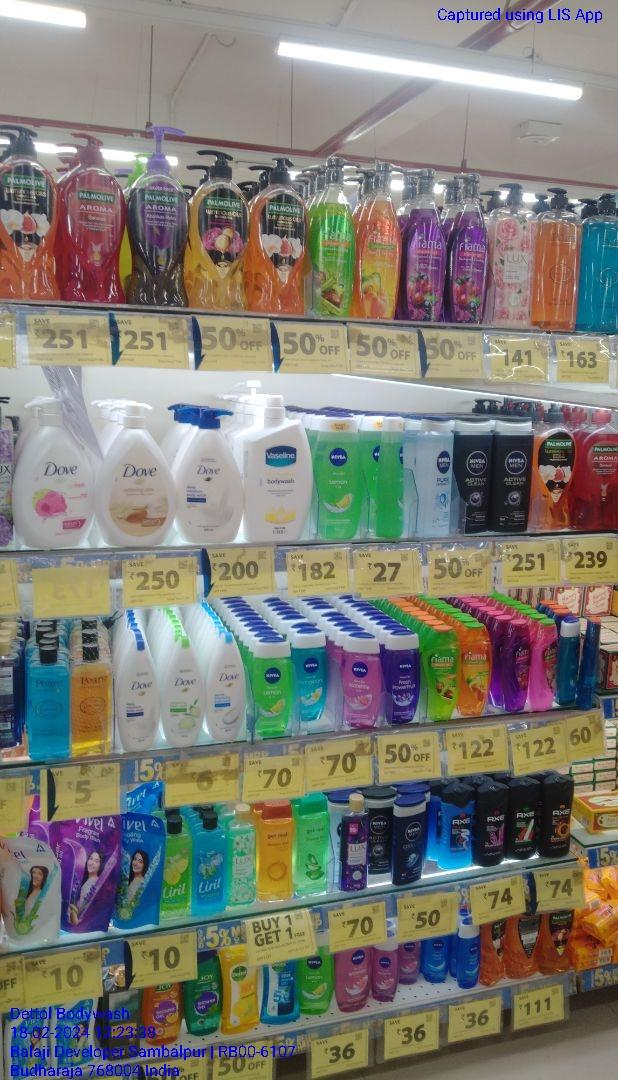Dettol_Bodywash_Cool: (262, 963, 301, 1025)
Dettol_Bodywash_Refresh: (222, 946, 260, 1036)
Dove_Deep_Moisture_Body_Wash_250ML: (114, 636, 160, 755)
Dove_Gentle_Exfoliating_Body_Wash_250ML: (208, 632, 246, 743)
Dove_Refreshing_Body_Wash_250ML: (160, 635, 206, 748)
Fiama_Shower_Gel_Lemongrass_and_Jojoba_250ML: (424, 625, 458, 720)
Fiama_Shower_Gel_Patchouli_and_Macadamia_250ML: (526, 619, 555, 710)
Fiama_Shower_Gel_Peach_and_Avocado_250ML: (460, 623, 489, 716)
Get_Real_Shower_Gel_Moisturising_Glycerin_300ML: (255, 801, 294, 904)
Joy_Shower_Gel_Mandarin_and_Lemongrass_250ML: (142, 983, 183, 1048)
Joy_Shower_Gel_Mint_and_Eucalyptus_250ML: (184, 950, 221, 1033)
Liril_Cooling_Mint_Body_Wash_250ML: (192, 813, 226, 919)
Liril_Lime_and_Tea_Tree_Oil_Body_Wash_250ML: (165, 813, 191, 912)
Lux_Black_Orchid_Scent_and_Juniper_Oil_Body_Wash_245ML: (340, 791, 367, 892)
Lux_Body_Wash_Skin_Detox_Freesia_Scent_and_Alove_Vera_245ML: (226, 801, 255, 905)
Nivea_Shower_Gel_Frangipani_and_Oil_250ML: (294, 628, 325, 725)
Nivea_Shower_Gel_Fresh_Powerfruit_250ML: (383, 630, 421, 725)
Nivea_Shower_Gel_Lemon_and_Oil_250ML: (312, 413, 367, 542), (249, 636, 292, 741), (304, 945, 333, 1019)
Nivea_Shower_Gel_Waterlily_and_Oil_250ML: (342, 632, 382, 729), (333, 949, 372, 1013)
Palmolive_Luminous_Oils_Invigorating_Macadamia_Oil_With_Peony_250ML: (541, 909, 572, 974)
Pears_Pure_Glycerin_and_Mint_Extracts_Body_Wash_250ML: (26, 645, 72, 761)
